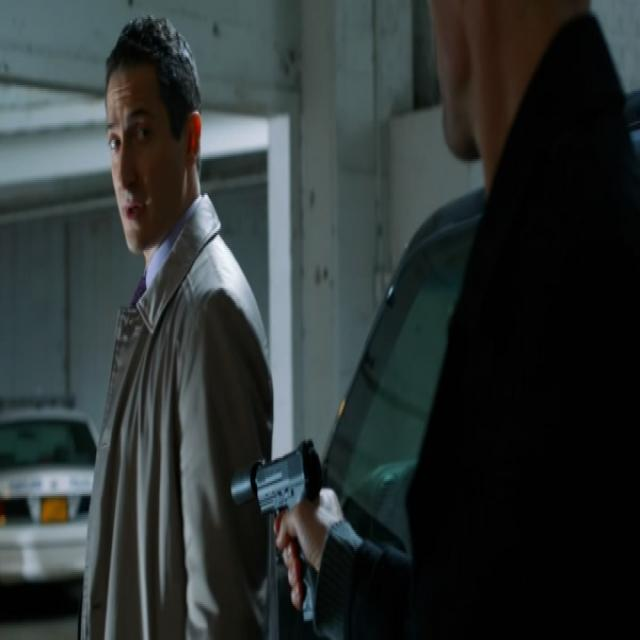weapons: (223, 431, 340, 627)
